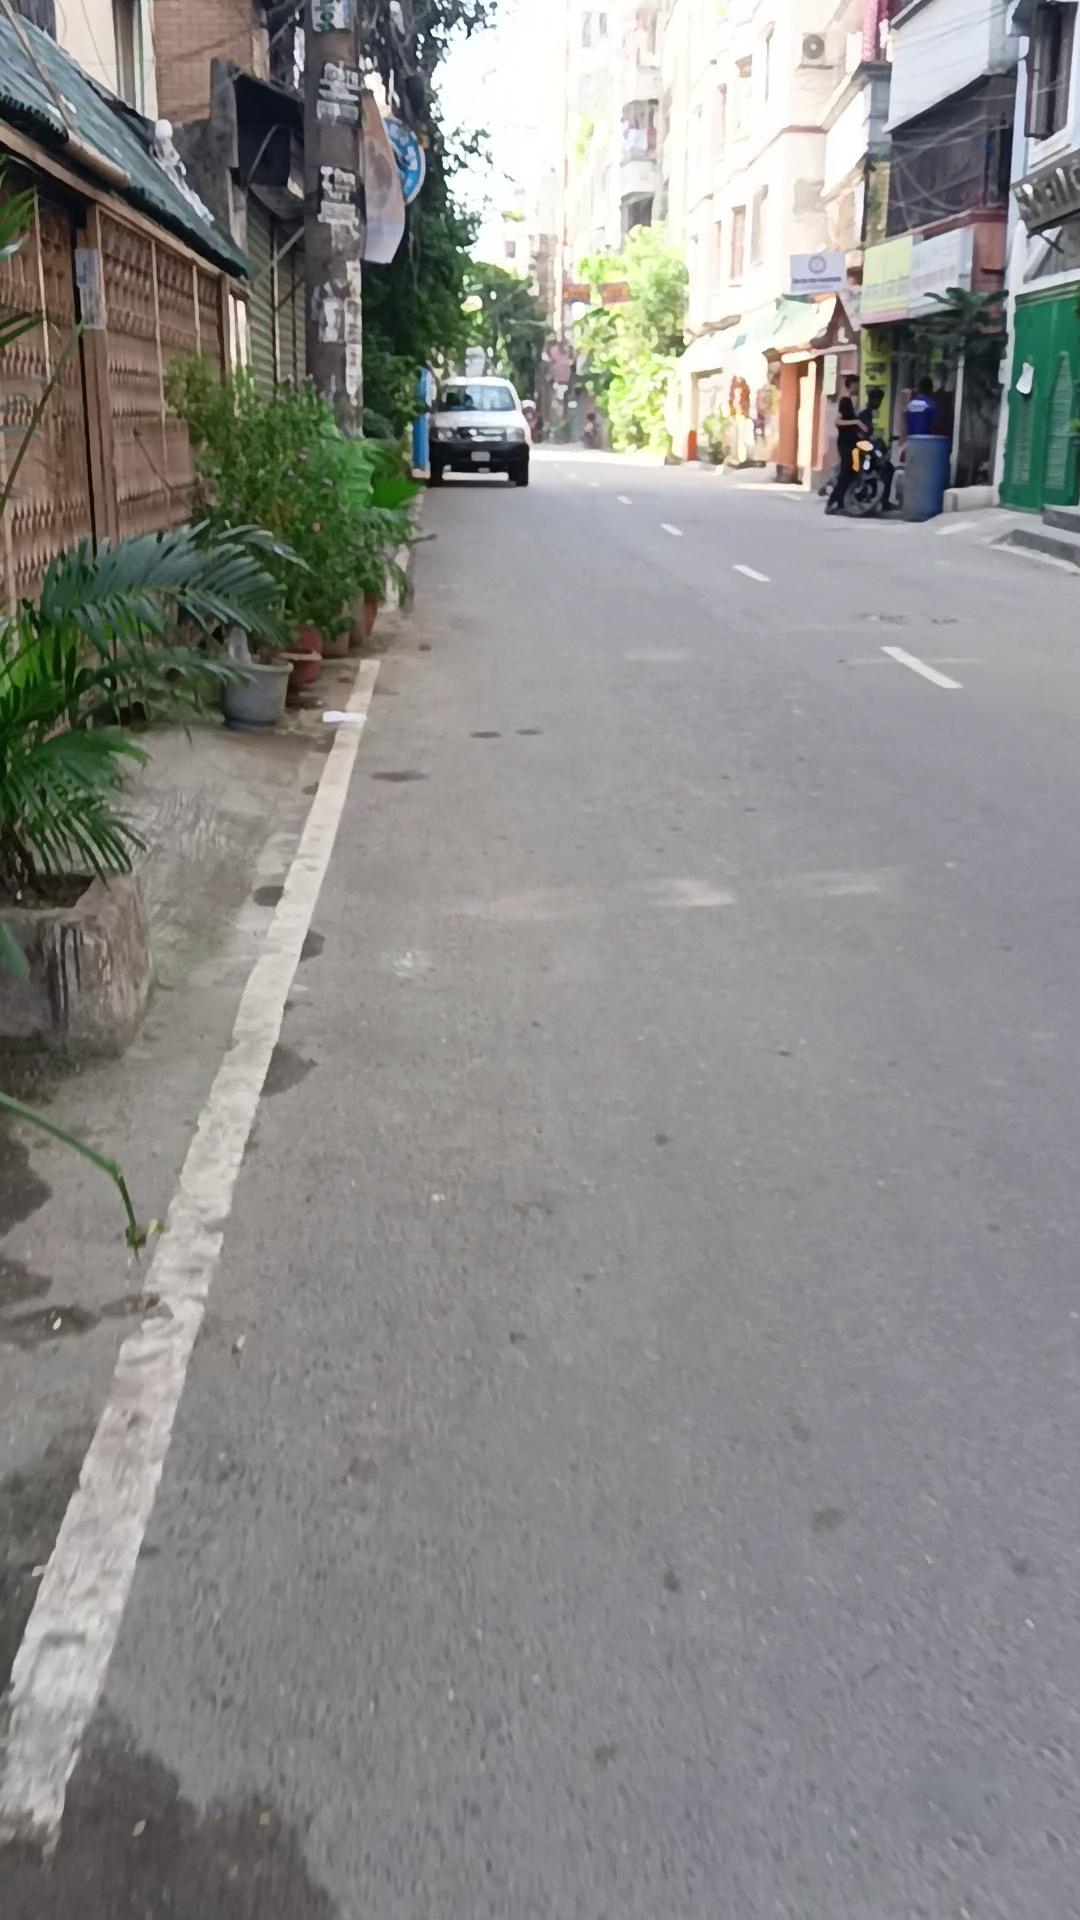Bollard: (426, 375, 531, 487)
Broken-road: (1, 752, 194, 1062)
Cat: (899, 433, 952, 520)
Construction-barrier: (845, 423, 903, 512)
Fallen-tree: (152, 386, 427, 729)
Light-pole: (357, 1, 498, 456), (567, 218, 688, 456)
